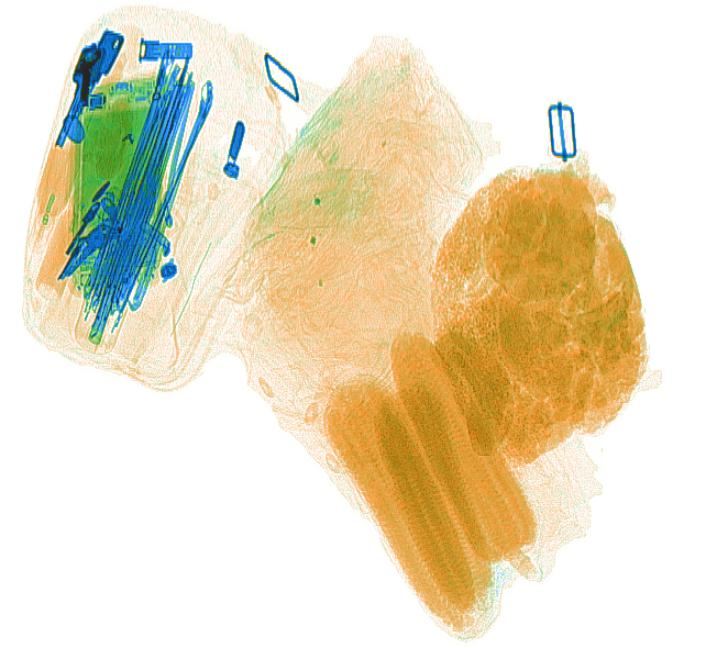plasticBottleWithaNozzle: (29, 134, 79, 252)
